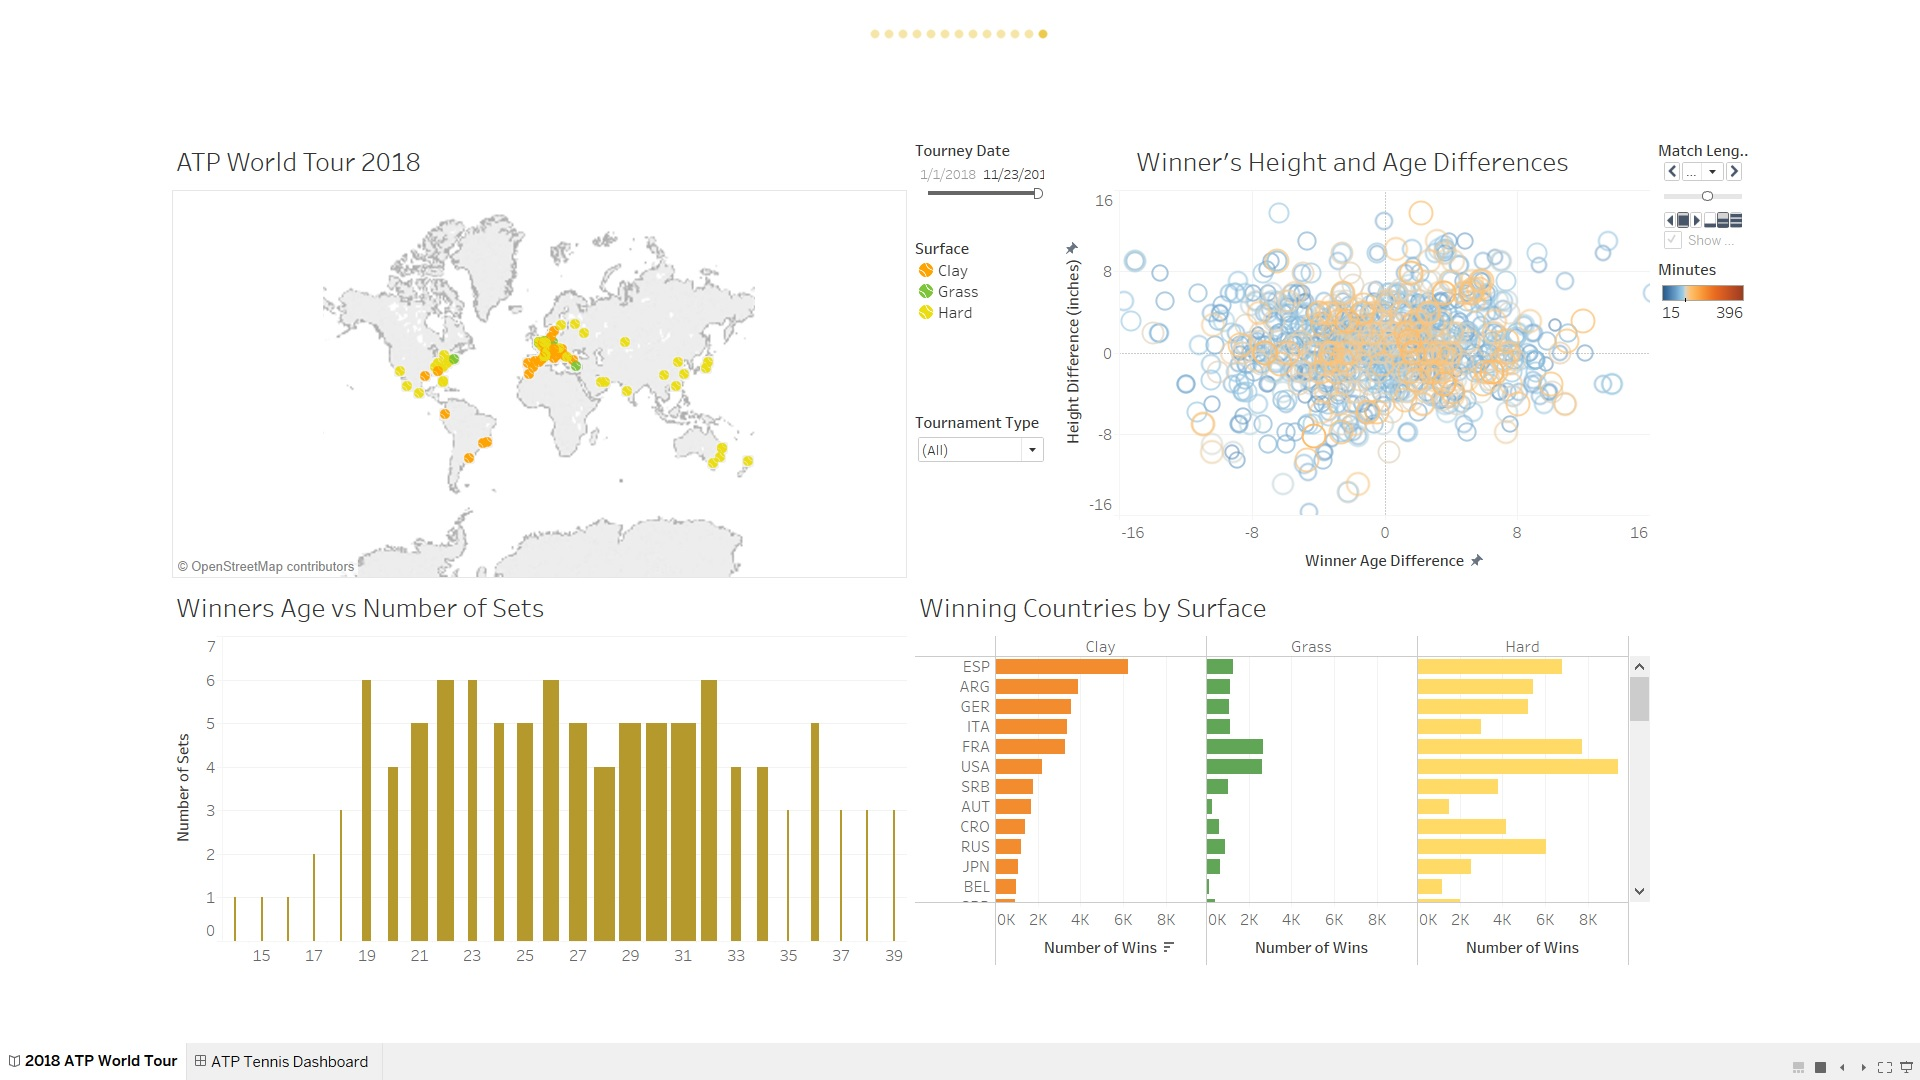

Layout of this report page (visuals, bound fields, positions):
{"tool":"tableau","page":{"name":"ATP Tennis Dashboard","canvas":[1600,850],"ordinal":0},"visuals":[{"type":"worksheet","title":"ATP World Tour map","mark":"Shape","box":[8,8,743,445.7]},{"type":"filter","title":"ATP World Tour map","param":"[federated.1c321pm0u5fbak1ez3adh0eglzro].[none:tourney_date:qk]","box":[751,8,139.8,98]},{"type":"worksheet","title":"Height & Age Difference","mark":"Automatic","rows":["Calculation_1682657415239598080"],"cols":["Calculation_1682657415239798785"],"box":[890.7,8,603.3,445.7]},{"type":"currpage","title":"Height & Age Difference","box":[1494,8,98,110]},{"type":"legend","title":"ATP World Tour map","param":"[federated.1c321pm0u5fbak1ez3adh0eglzro].[none:surface:nk]","box":[751,106,139.8,173.9]},{"type":"legend","title":"Height & Age Difference","param":"[federated.1c321pm0u5fbak1ez3adh0eglzro].[none:minutes:qk]","box":[1494,118,98,65]},{"type":"filter","title":"ATP World Tour map","param":"[federated.1c321pm0u5fbak1ez3adh0eglzro].[none:Tournament Type:nk]","box":[751,279.9,139.8,173.9]},{"type":"worksheet","title":"Winners Age vs Number of Sets","mark":"Automatic","rows":["Calculation_1906711496533458947"],"cols":["Winner Age (bin) 2"],"box":[8,453.7,743,388.3]},{"type":"worksheet","title":"Winning Countries by Surface","mark":"Automatic","rows":["winner_ioc"],"cols":["surface","winner_ioc"],"box":[751,453.7,743,388.3]}]}

Visuals, with their boxes on the page's 1600x850 design canvas (x1, y1, x2, y2). These are canvas units, not pixel positions in the 1920x1080 screenshot, which may show the page scaled, cropped or inside an application window:
"ATP World Tour map" worksheet (Shape marks): 8, 8, 751, 454
"ATP World Tour map" filter: 751, 8, 891, 106
"Height & Age Difference" worksheet: 891, 8, 1494, 454
"Height & Age Difference" currpage: 1494, 8, 1592, 118
"ATP World Tour map" legend: 751, 106, 891, 280
"Height & Age Difference" legend: 1494, 118, 1592, 183
"ATP World Tour map" filter: 751, 280, 891, 454
"Winners Age vs Number of Sets" worksheet: 8, 454, 751, 842
"Winning Countries by Surface" worksheet: 751, 454, 1494, 842
